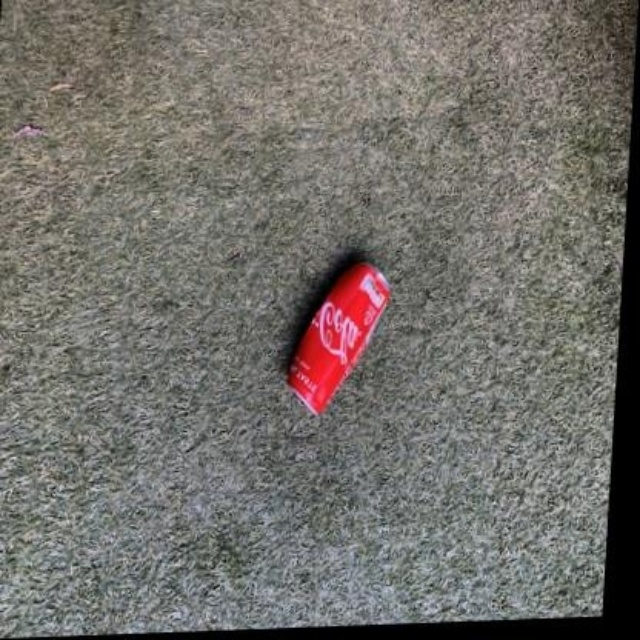trash: (288, 263, 389, 412)
